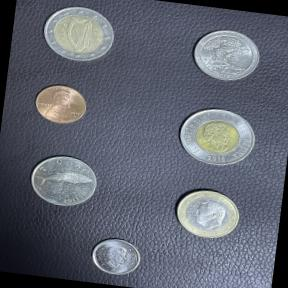coin: (170, 98, 264, 176), (35, 0, 123, 69), (186, 22, 266, 89), (23, 149, 103, 214), (169, 183, 246, 246), (28, 79, 94, 129), (86, 234, 146, 282)
